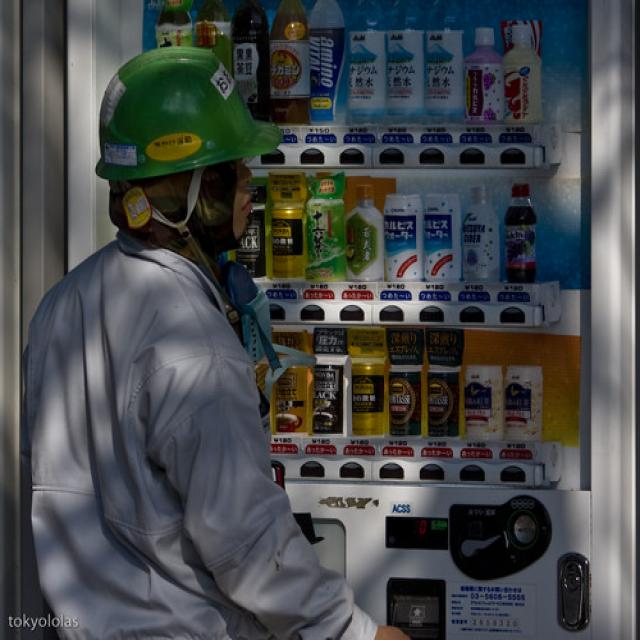Safety-Helmet: (87, 42, 280, 186)
